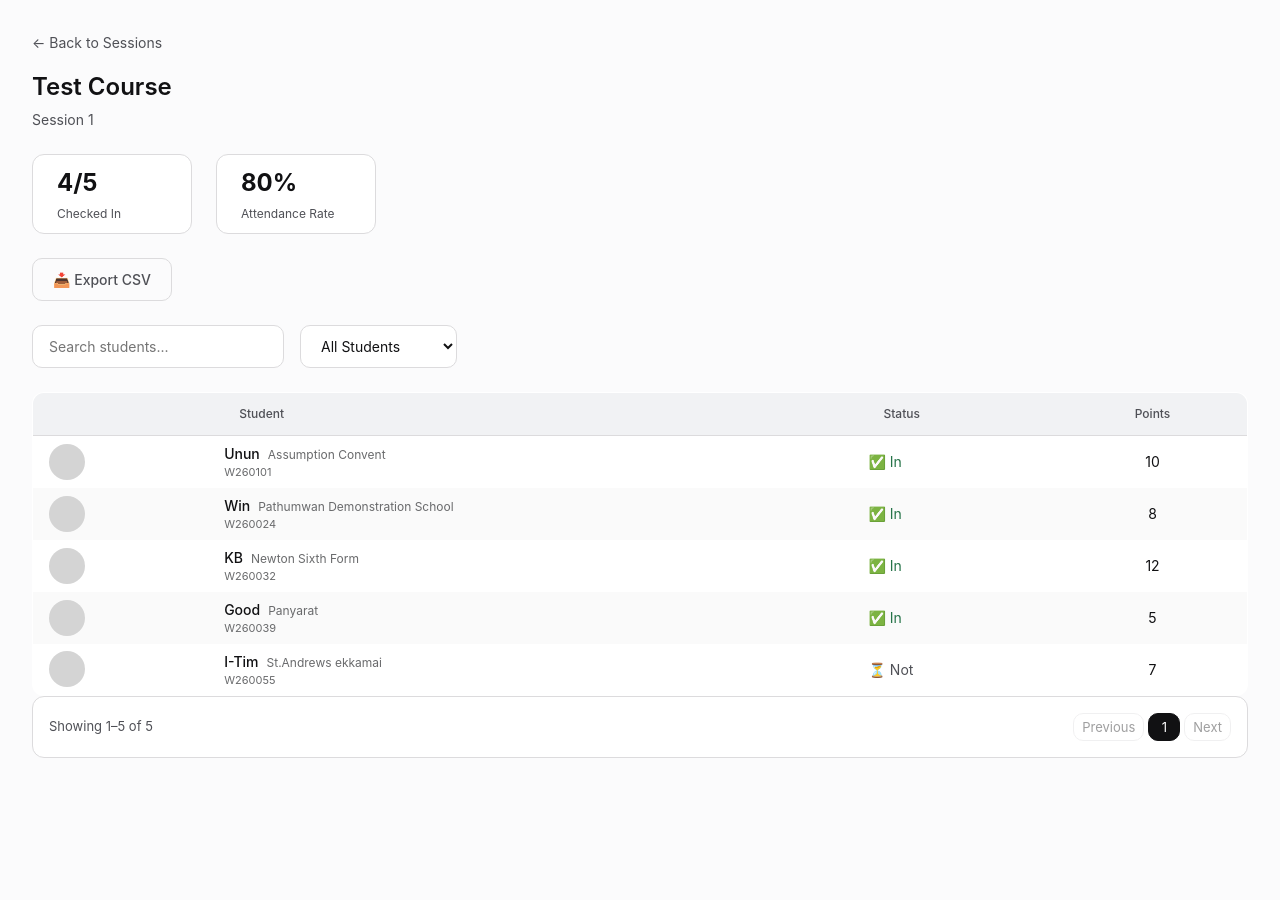
Test: CheckinDetail search › search is case-insensitive
In the field with placeholder "Search students...": (158, 346) left=32, top=325, right=284, bottom=368, type "win"
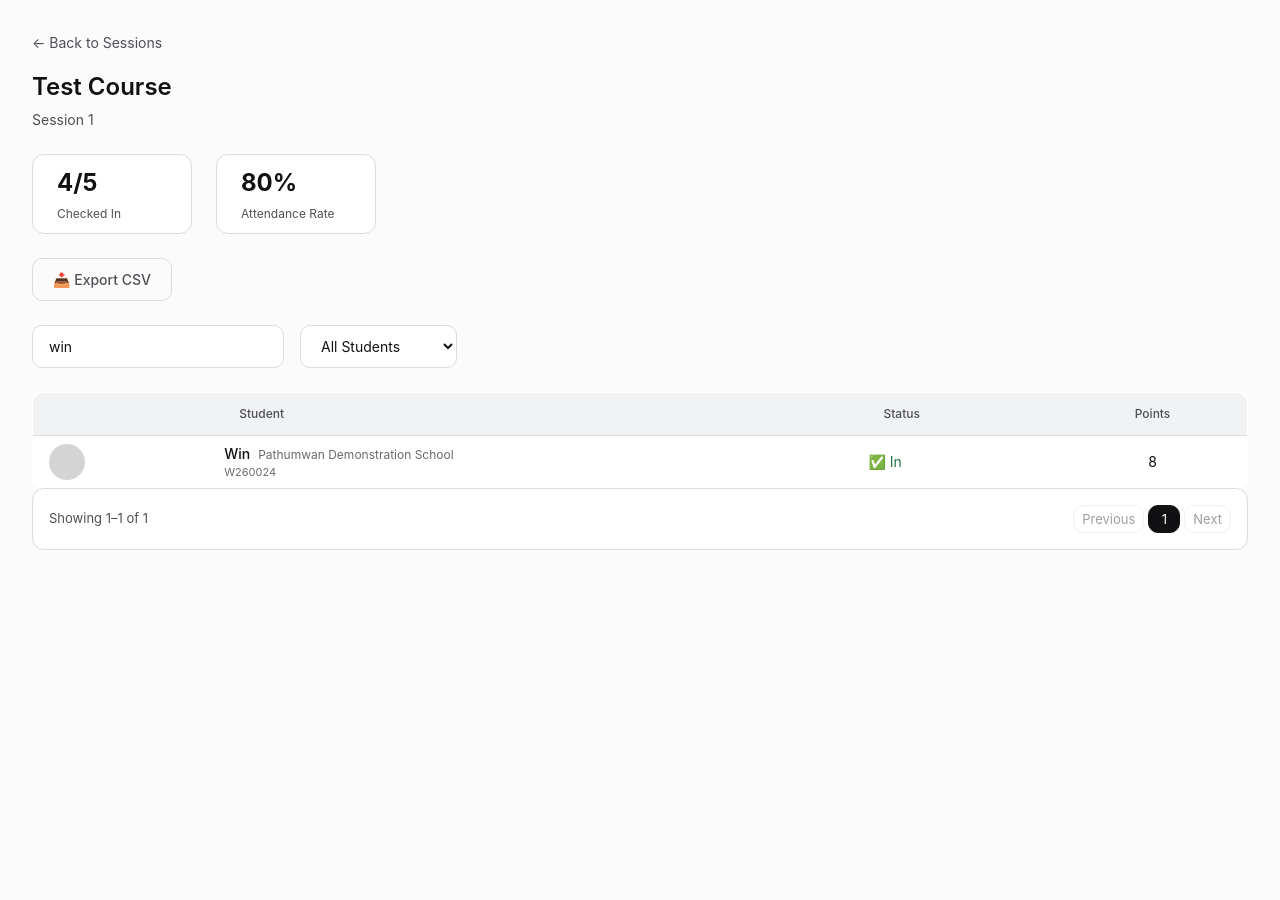
Expected: the text "Win" is shown, left=224, top=445, right=250, bottom=462
Now the text "Unun" is gone
Now the text "KB" is gone
